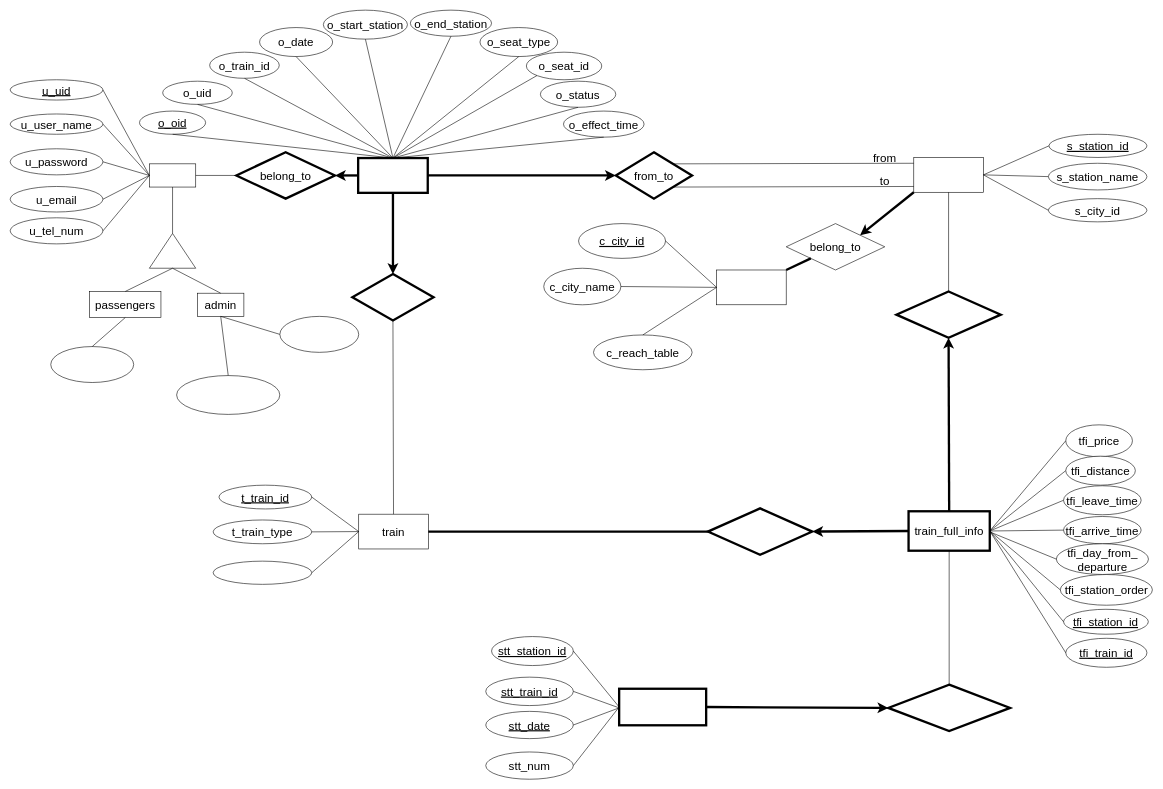
This 1163x789 diagram has some shape labels left out. Here are the shapes that lost their labels. From the top down, the centre of each, then its label:
At (x=172, y=175): "users".
At (x=393, y=175): "orders".
At (x=948, y=174): "station_list".
At (x=172, y=250): "ISA".
At (x=392, y=297): "related_to".
At (x=751, y=287): "city".
At (x=319, y=334): "a_authority".
At (x=948, y=314): "stay_in".
At (x=92, y=364): "p_real_name".
At (x=228, y=394): "a_authentication".
At (x=759, y=531): "pass_by".
At (x=262, y=572): "t_train_name".
At (x=662, y=706): "station_tickets".
At (x=949, y=707): "have_ticket".
